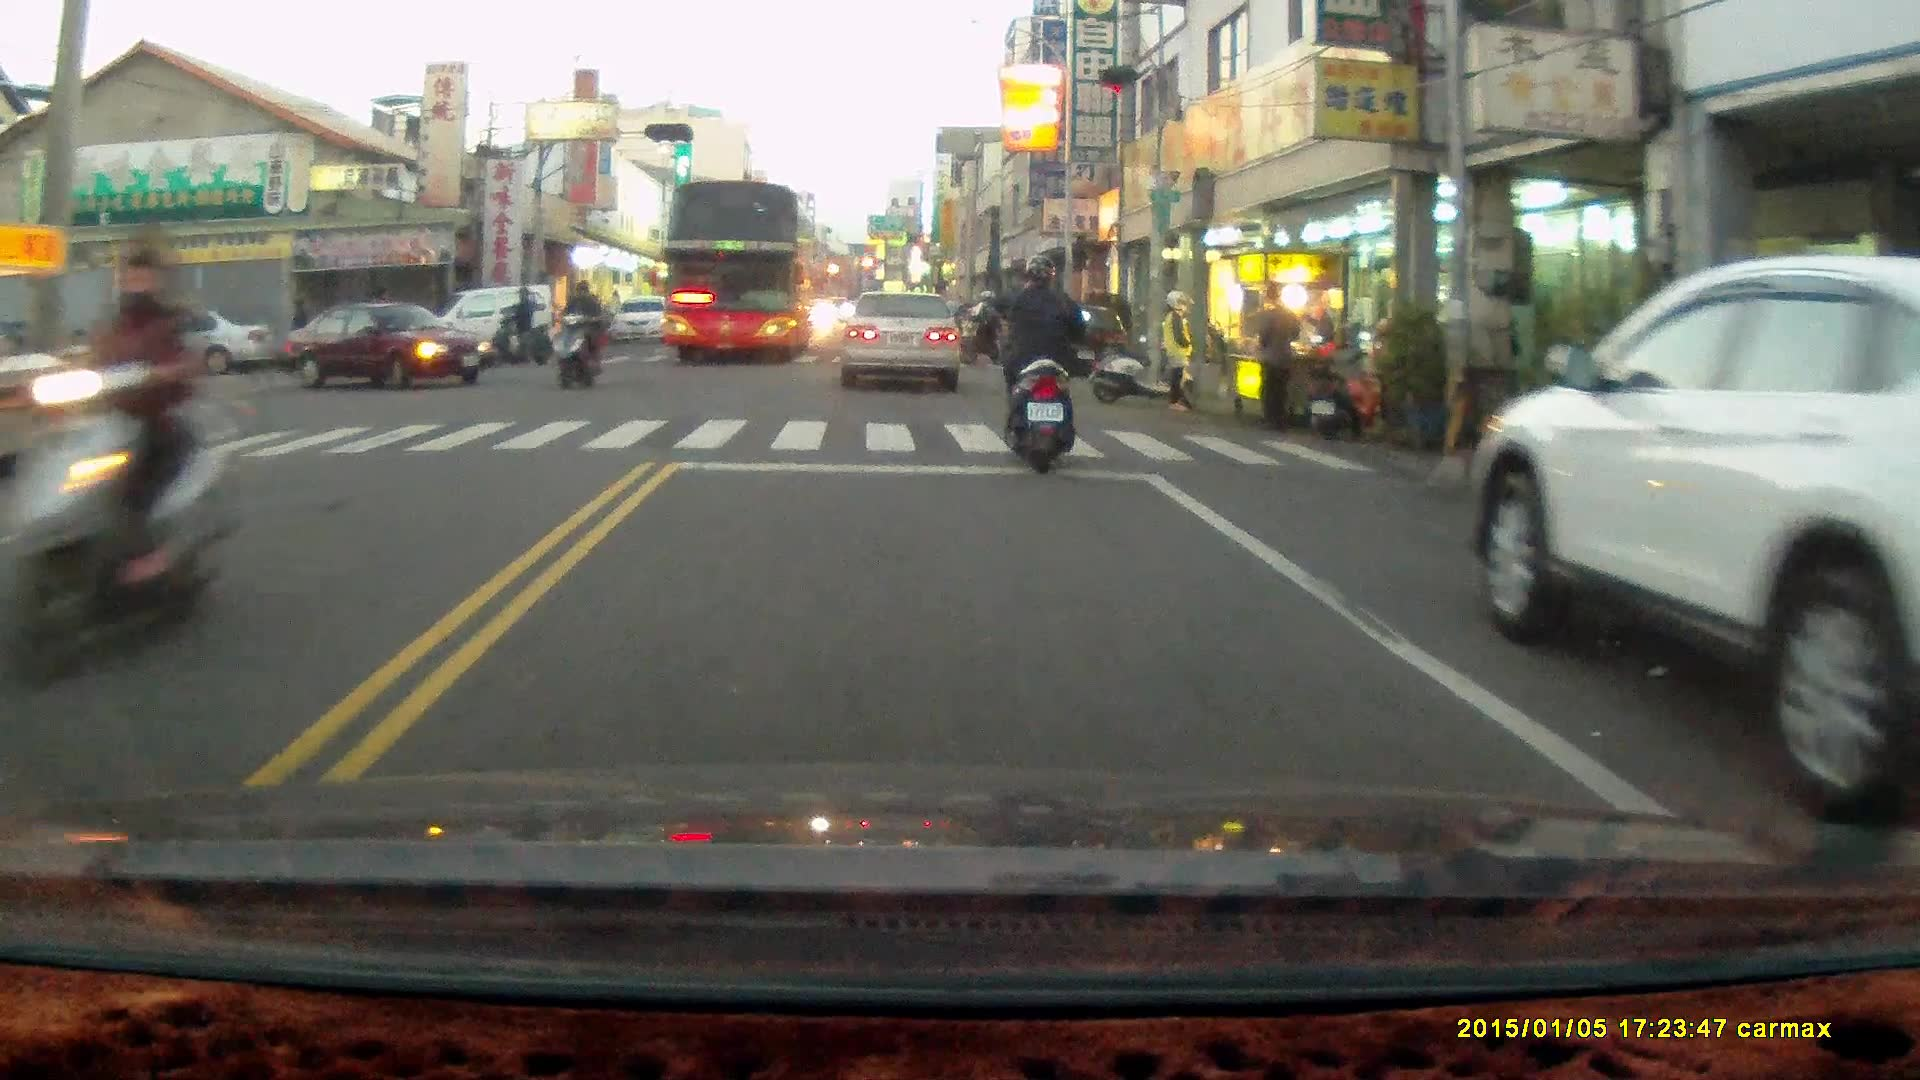pedestrian: (1253, 279, 1298, 433), (1157, 283, 1195, 411), (286, 293, 313, 369)
rider: (0, 225, 244, 687), (991, 248, 1094, 470), (554, 277, 605, 392), (487, 283, 550, 364), (958, 290, 1011, 370)
vehicle: (1461, 252, 1920, 821), (661, 183, 815, 371), (288, 300, 489, 390), (840, 288, 965, 395), (83, 311, 263, 386), (424, 283, 567, 373), (1037, 302, 1134, 377), (610, 294, 681, 345)
